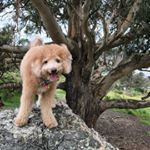puppy: (12, 37, 74, 131)
